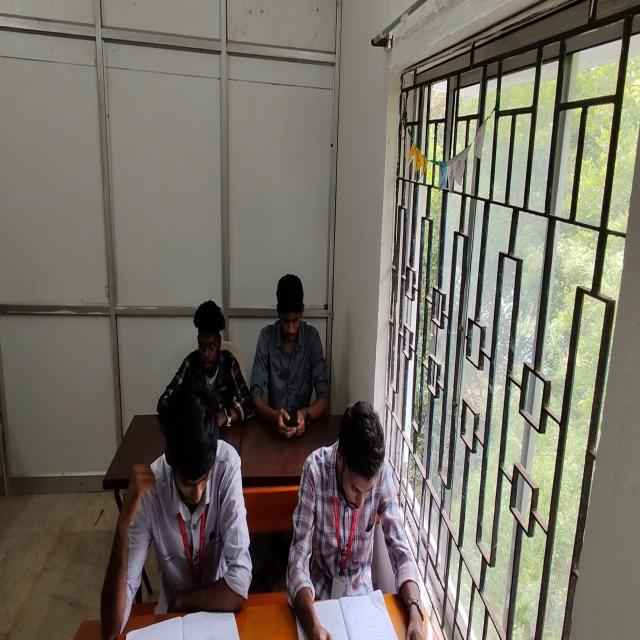reading: (102, 380, 253, 637), (283, 402, 407, 640)
using_mobile: (250, 276, 330, 438), (157, 300, 253, 431)
